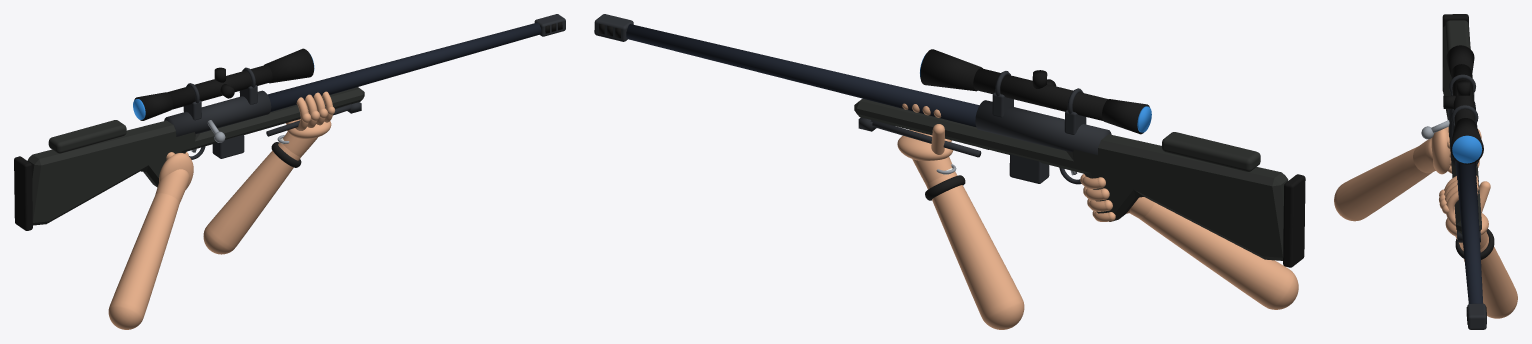
The model's file is sniper.glb.
3 renders of one model, left to right at view 1: azimuth 30°, elevation 25°; view 2: azimuth 150°, elevation 25°; view 3: azimuth 270°, elevation 25°, orthographic. The views are drawn at different scales.
Parts seen in each view (by area): view 1: Sniper_Body, Sniper_Arms; view 2: Sniper_Body, Sniper_Arms; view 3: Sniper_Arms, Sniper_Body, Sniper_Bolt.
Boxes of the visible parts, x1=… form: Sniper_Body: x1=14, y1=14, x2=565, y2=230; Sniper_Arms: x1=108, y1=91, x2=335, y2=329; Sniper_Body: x1=594, y1=14, x2=1305, y2=267; Sniper_Arms: x1=897, y1=103, x2=1298, y2=329; Sniper_Arms: x1=1334, y1=127, x2=1517, y2=318; Sniper_Body: x1=1442, y1=14, x2=1486, y2=329; Sniper_Bolt: x1=1421, y1=120, x2=1449, y2=139.
Size of the model in its own units: 1.55 by 0.529 by 0.3919.
